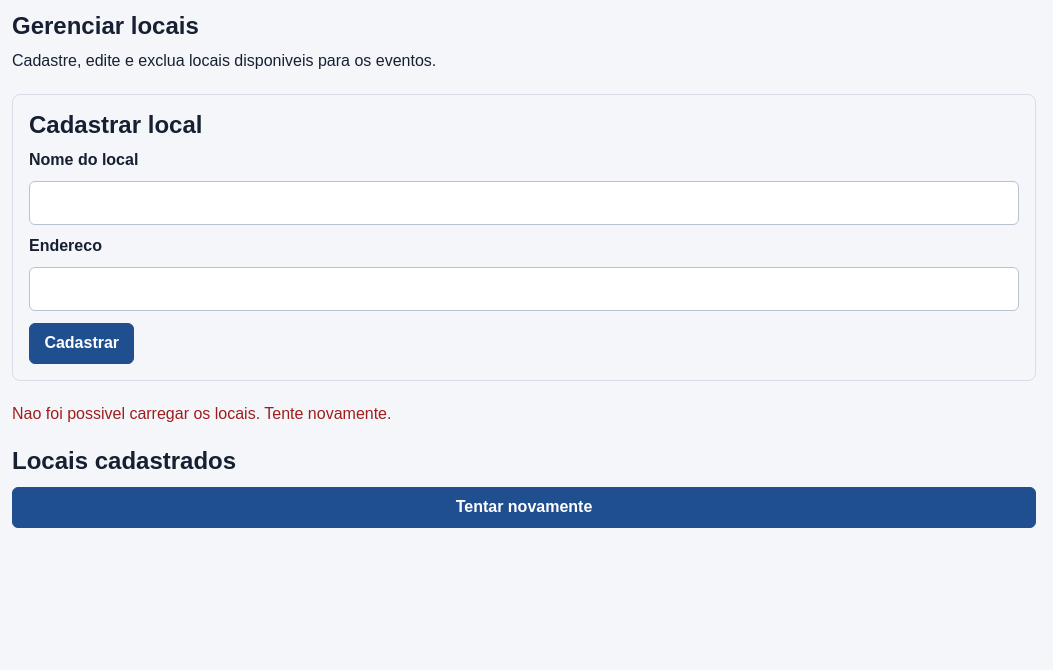
Test case: LocationManagementComponent › should show loading errors and retry
This screenshot has width=1053, height=670.
Click the button "Tentar novamente": [524, 507] box [12,487,1036,528]
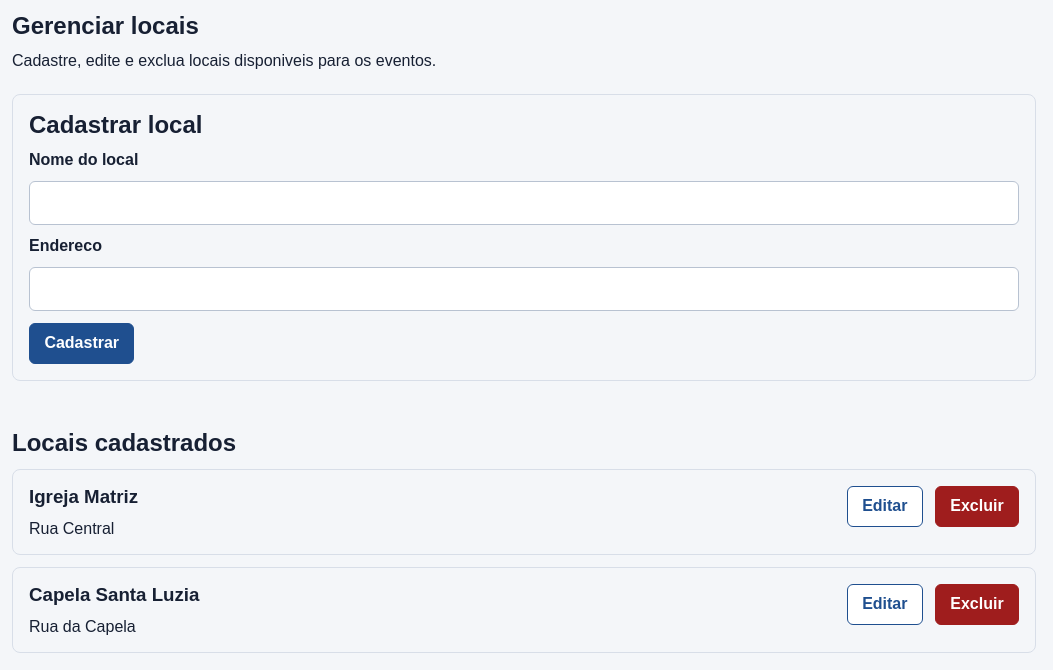
Expected: the text "Igreja Matriz" is shown, [29,486,138,507]
